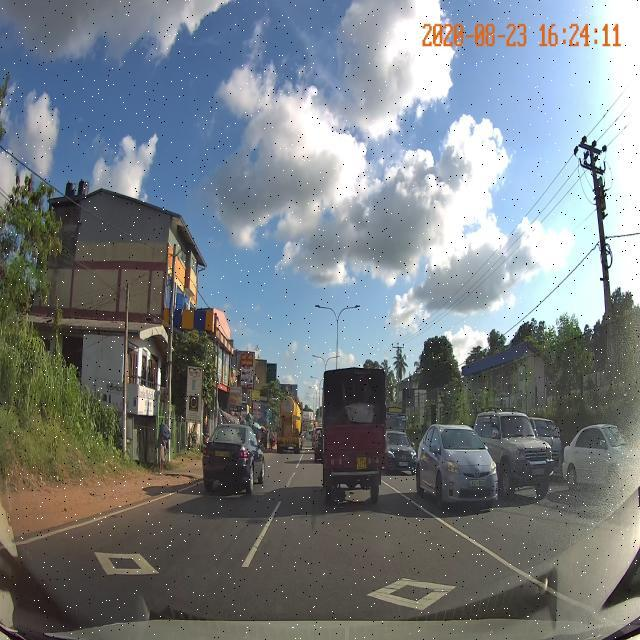diamond: (215, 570, 583, 618)
